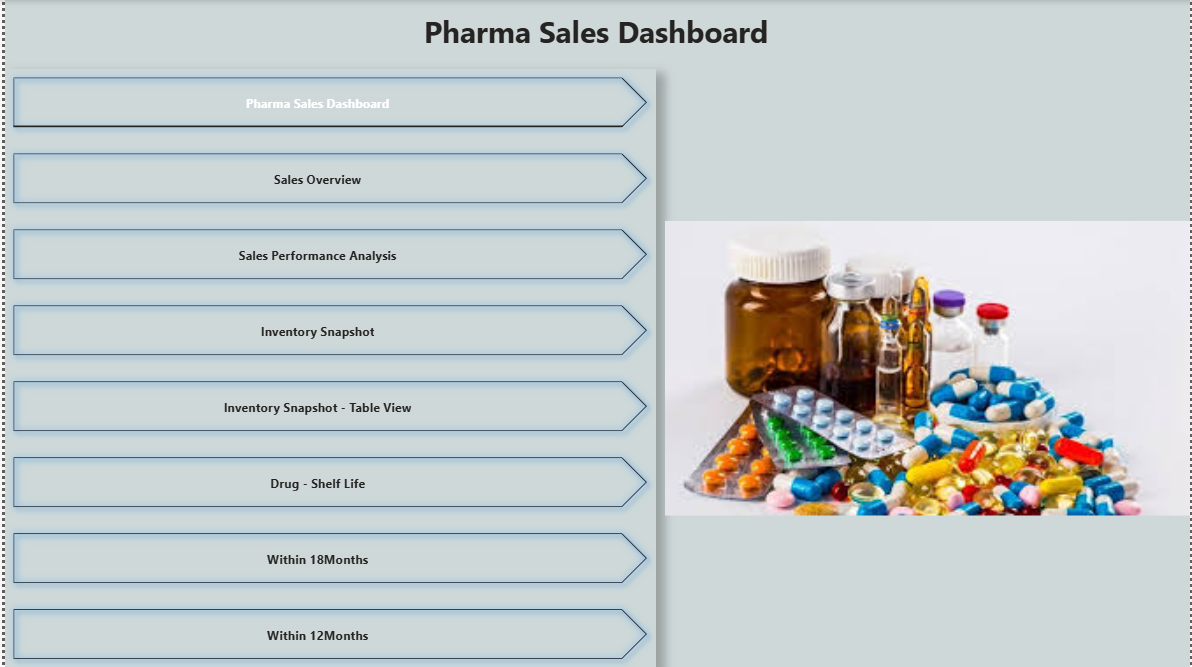

The page's visual inventory and layout, read from the dashboard file:
{"tool":"powerbi","page":{"name":"Bookmarks","canvas":[1280,720],"ordinal":4},"visuals":[{"type":"group","id":"g1","title":"Triangle ","box":[13,396.7,1237.1,280.1],"z":0},{"type":"shape","title":"Triangle 3","box":[13,396.7,280.1,280.1],"z":0,"group":"g1"},{"type":"shape","title":"Triangle 2","box":[513.3,396.7,280.1,280.1],"z":1000,"group":"g1"},{"type":"actionButton","box":[53.4,27.5,100.4,40.5],"z":2000},{"type":"shape","title":"Triangle 1","box":[970,396.7,280.1,280.1],"z":2000,"group":"g1"},{"type":"actionButton","box":[176.2,28.4,99.2,40.5],"z":3000}]}

Visuals, with their boxes in screenshot pixels (x1, y1, x2, y2), scaled from the page's 1280x720 canvas onto the 1192x667 screenshot:
"Triangle " group: box(12, 367, 1164, 627)
"Triangle 3" shape: box(12, 367, 273, 627)
"Triangle 2" shape: box(478, 367, 739, 627)
actionButton: box(50, 25, 143, 63)
"Triangle 1" shape: box(903, 367, 1164, 627)
actionButton: box(164, 26, 256, 64)
